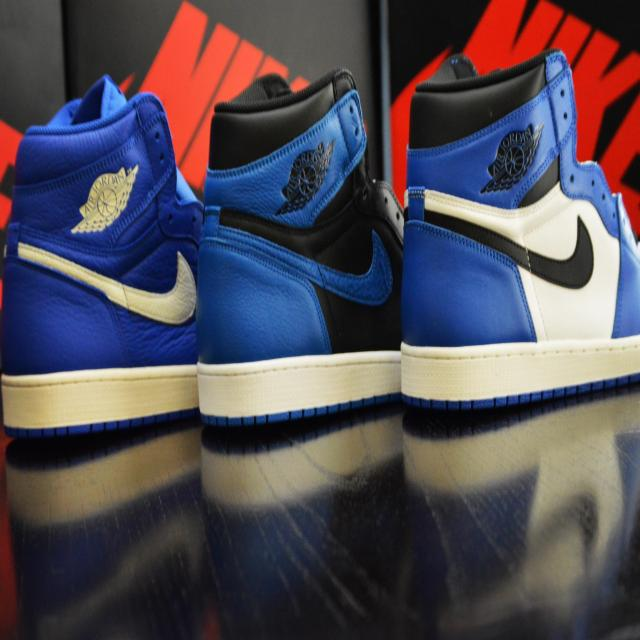shoe: (394, 24, 640, 508), (190, 17, 398, 462), (0, 39, 186, 469)
